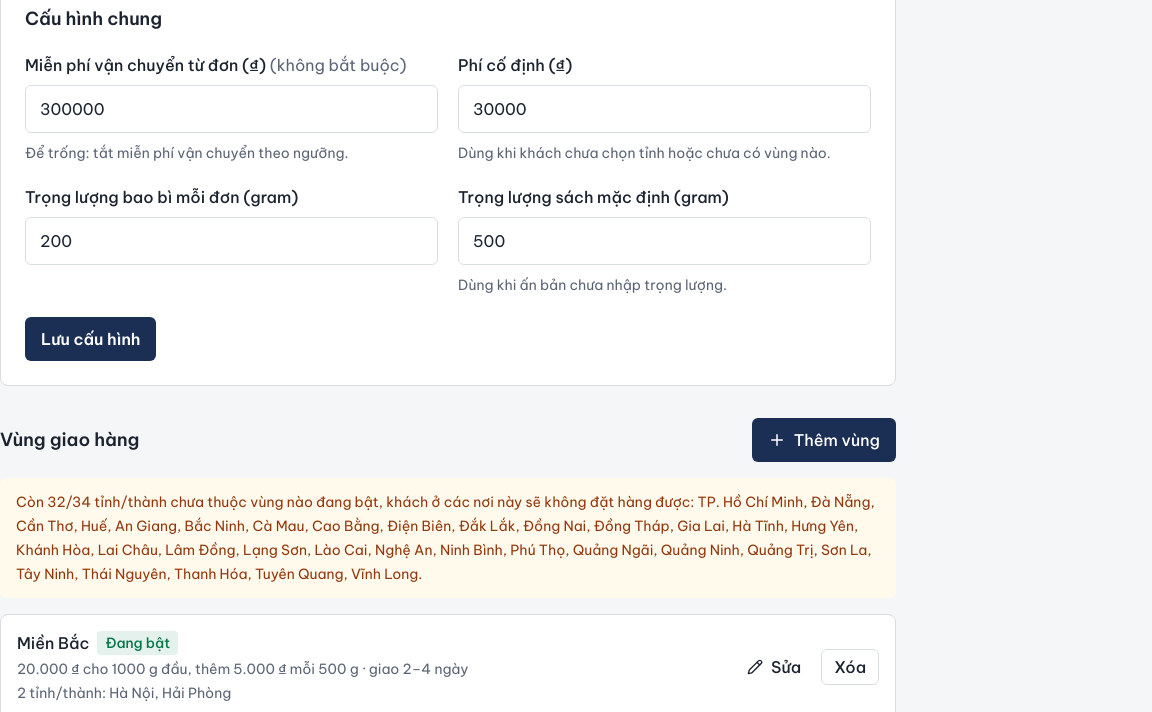
Test: ShippingManager › sửa vùng giữ tỉnh cũ và báo tỉnh trùng của backend
The width and height of the screenshot is (1152, 712).
(page scrolled)
Click the button with aria-label "Sửa vùng Miền Bắc" at x=774, y=667, box [735,649,813,685]
(page scrolled)
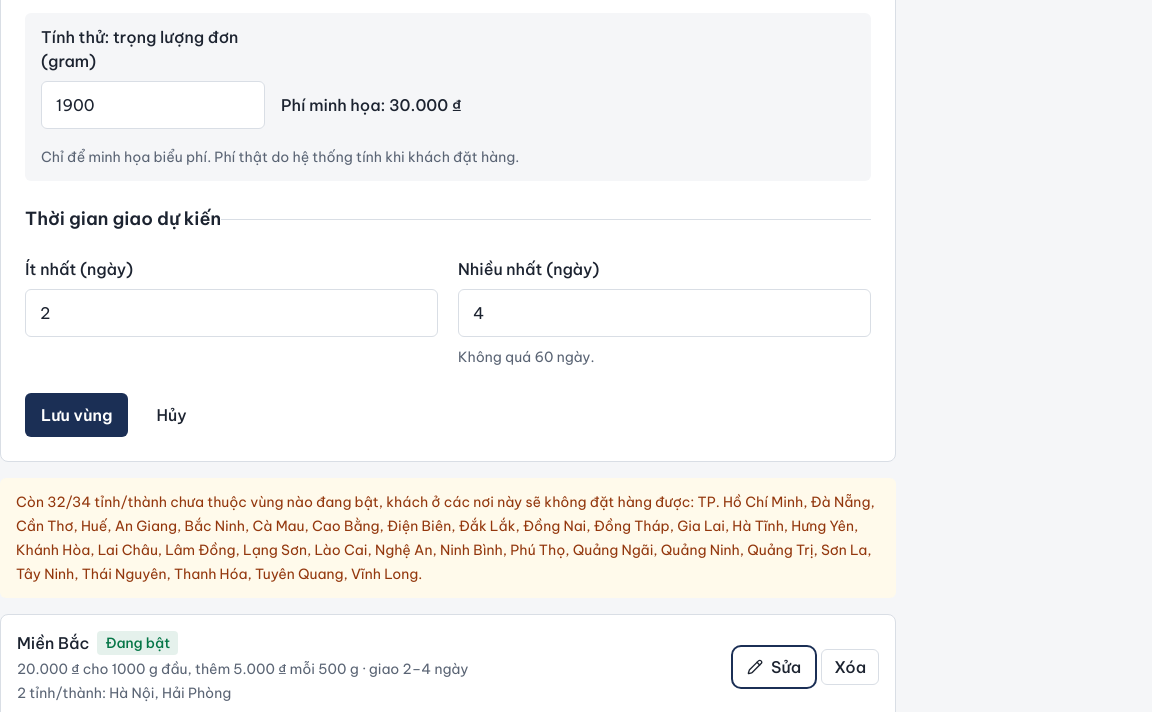
Click the button "Lưu vùng" at x=77, y=415, box [25,393,128,437]
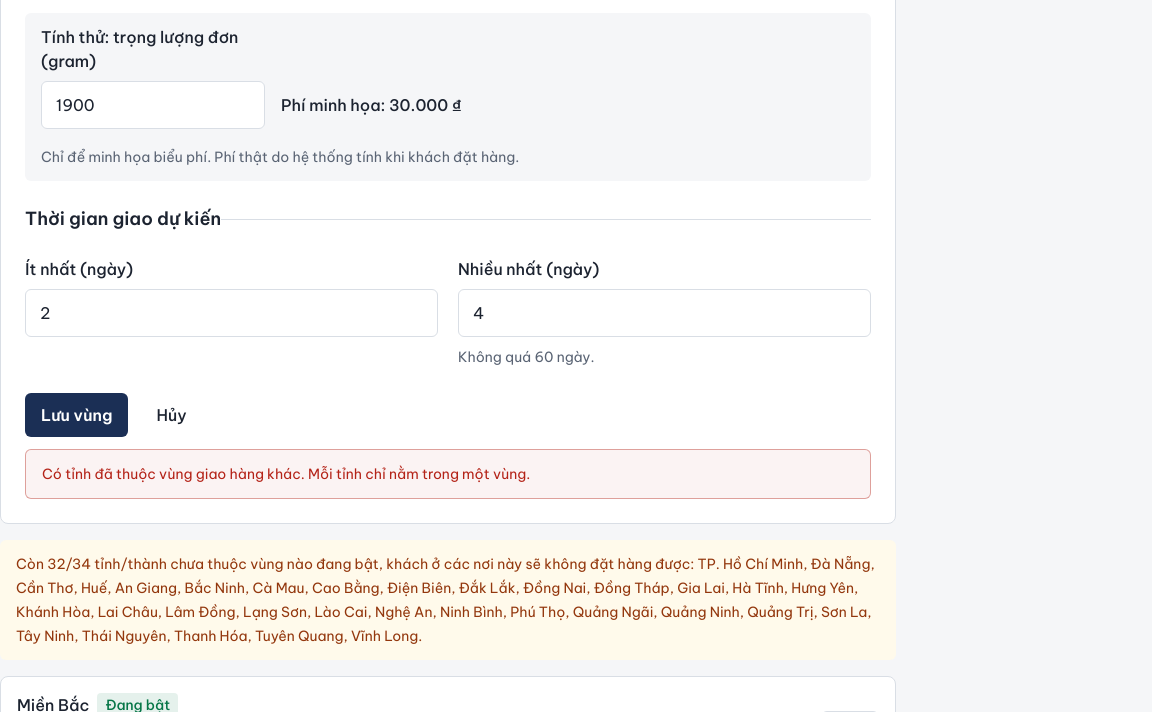
Now the text "Có tỉnh đã thuộc vùng giao hàng khác. Mỗi tỉnh chỉ nằm trong một vùng." is shown, box [25,449,871,499]
